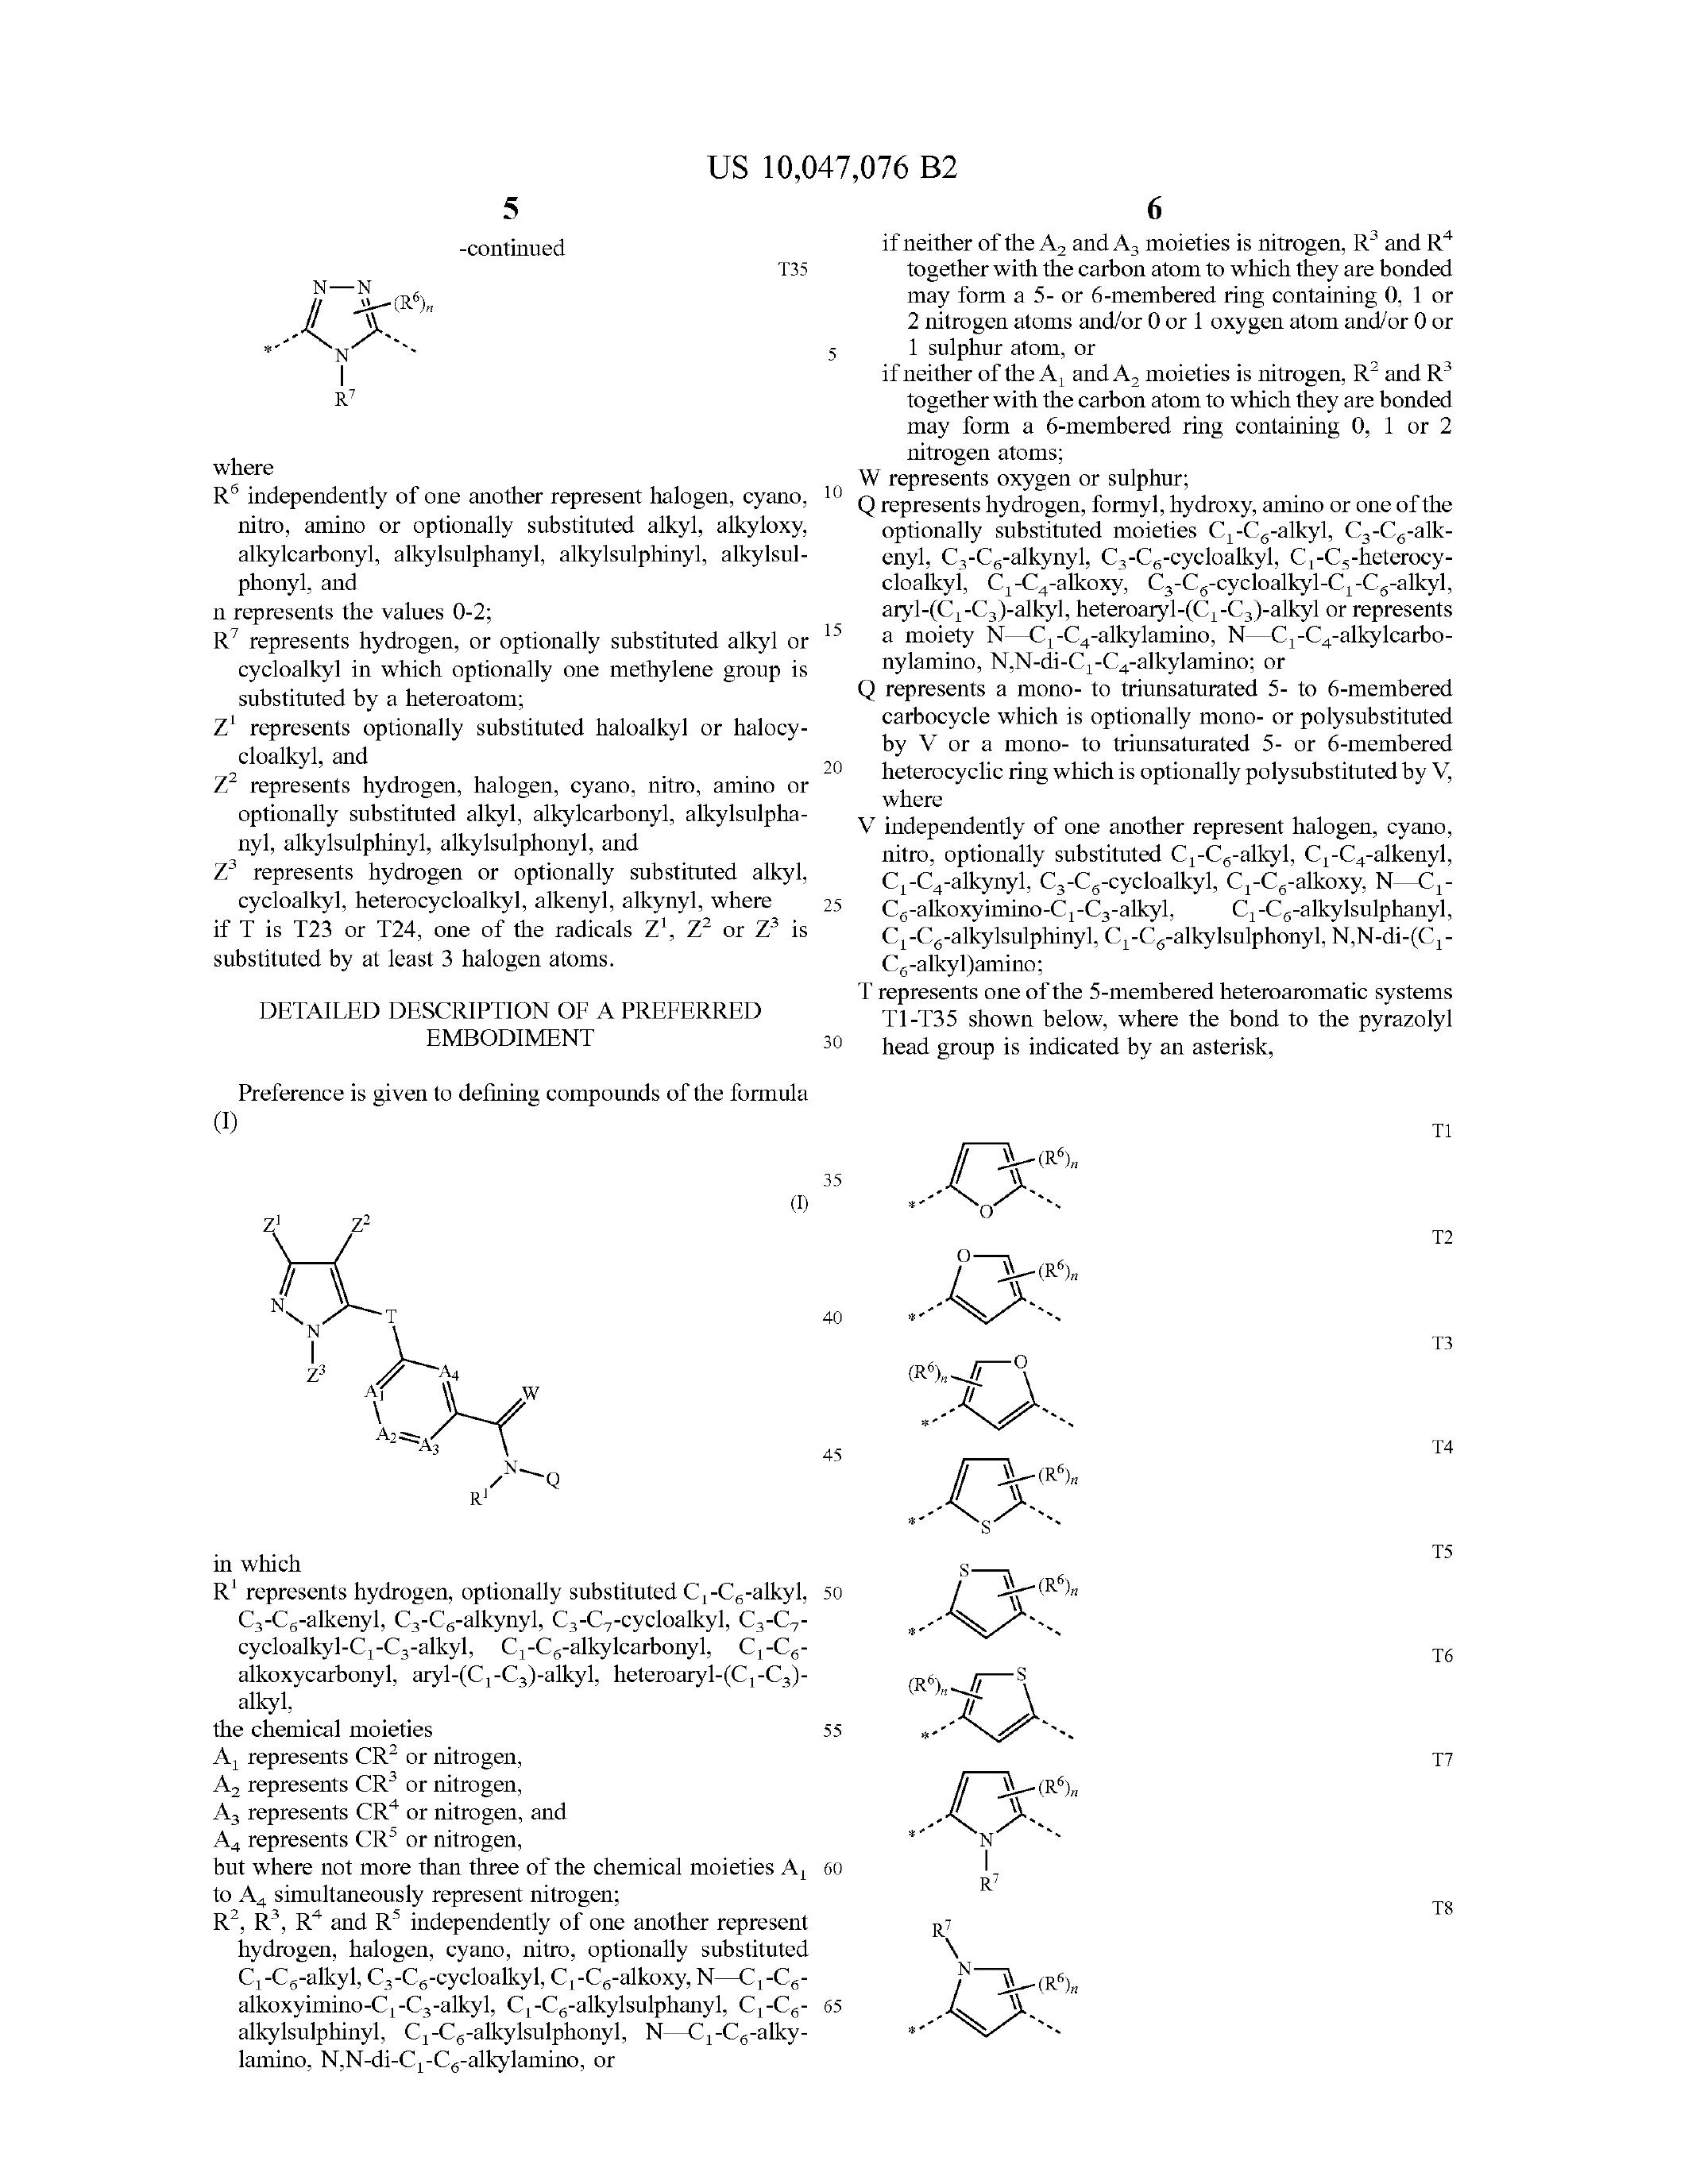markush-structures: (195, 1191, 718, 1517)
substitutes: (160, 441, 812, 709), (231, 261, 440, 434)
